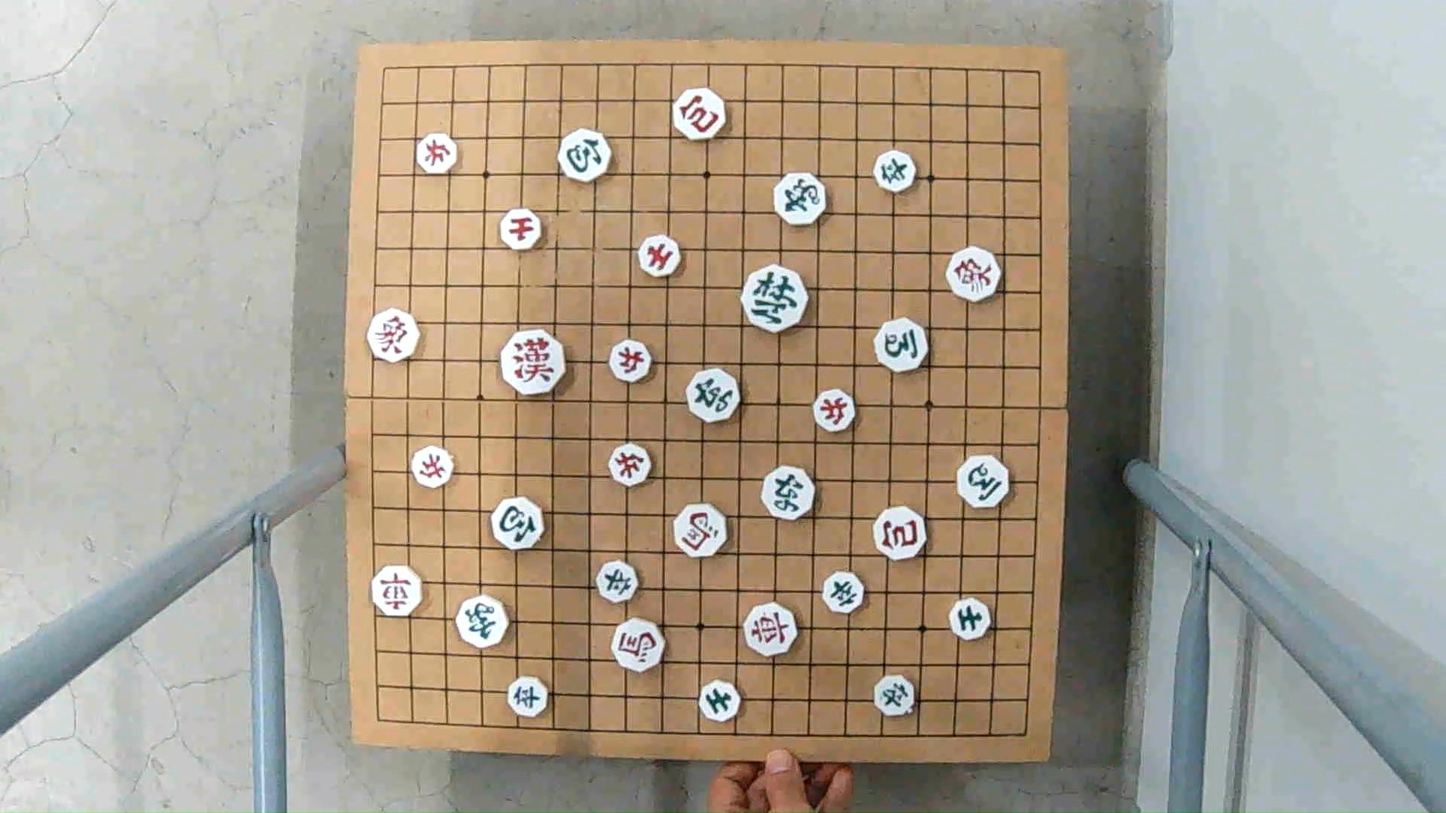cha_green: (761, 467, 818, 518), (685, 372, 742, 421)
cha_red: (744, 602, 797, 655), (371, 568, 422, 617)
jol_green: (595, 562, 642, 601), (820, 574, 867, 612), (873, 151, 917, 191), (871, 678, 918, 714), (509, 676, 548, 716)
jol_red: (606, 340, 654, 381), (810, 391, 859, 431), (610, 446, 656, 486), (411, 449, 456, 486), (416, 133, 457, 172)
ma_green: (874, 322, 931, 371), (956, 455, 1008, 508)
ma_red: (673, 504, 731, 554), (610, 620, 667, 668)
po_green: (490, 499, 546, 548), (557, 132, 612, 181)
po_red: (672, 89, 728, 139), (871, 509, 927, 558)
sa_green: (697, 681, 742, 720), (947, 601, 993, 639)
sa_red: (636, 235, 685, 276), (498, 209, 544, 249)
sang_green: (456, 595, 509, 648), (773, 174, 828, 222)
sang_red: (944, 250, 1002, 300), (367, 309, 420, 361)
wang_green: (740, 273, 810, 328)
wang_red: (499, 333, 567, 394)
